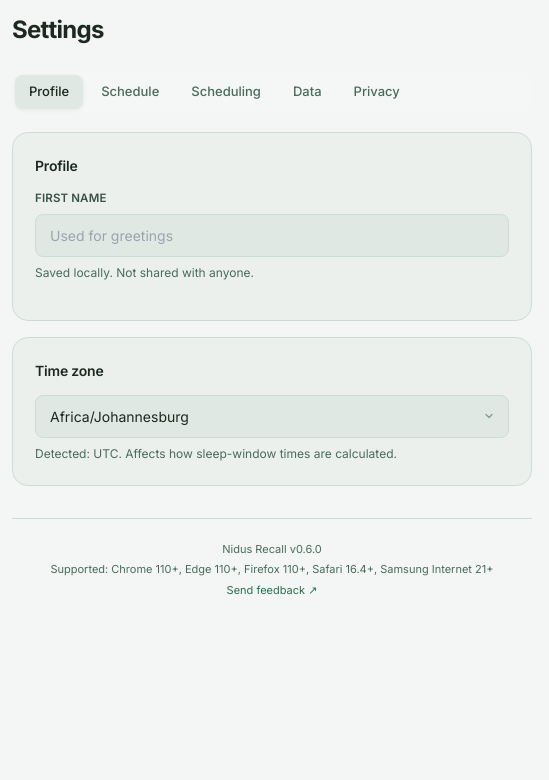
Test: SettingsView — tabs › renders privacy tab with delete account button
The width and height of the screenshot is (549, 780).
Click the button "Privacy" at x=377, y=92, box top-left (340, 75), bottom-right (414, 108)
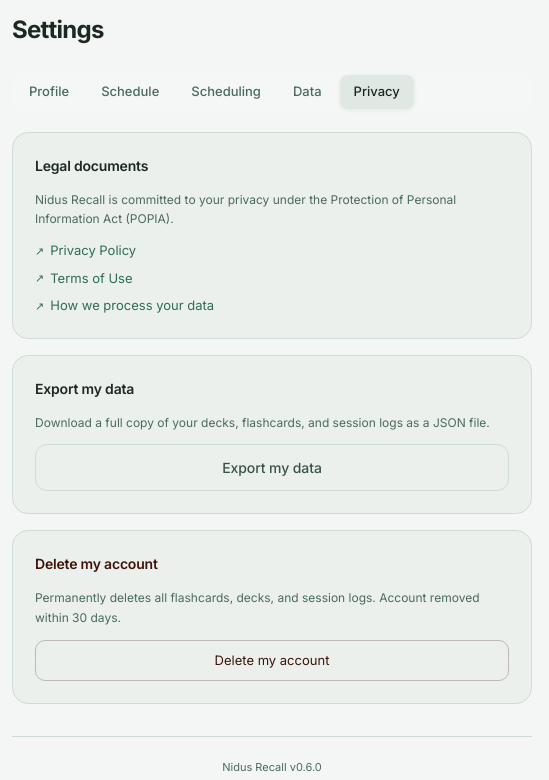
Expected: the button with test id "delete-account-btn" is shown, top-left (35, 640), bottom-right (509, 682)
